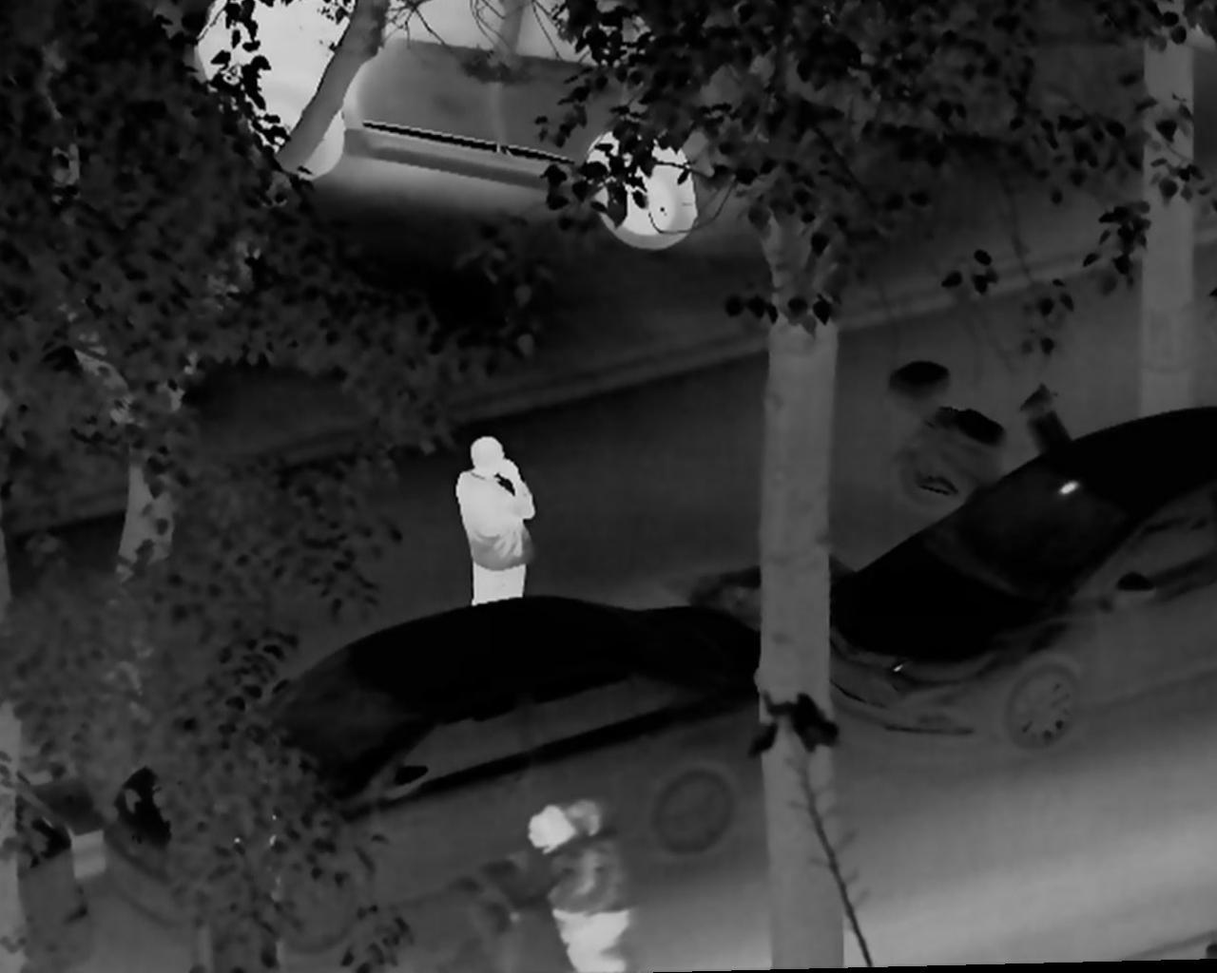person: (447, 429, 534, 615), (512, 805, 595, 973), (565, 791, 634, 973)
